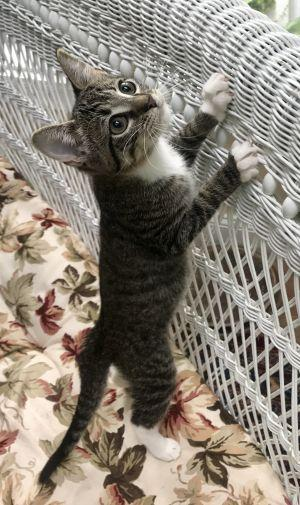bengal: (21, 45, 191, 189)
